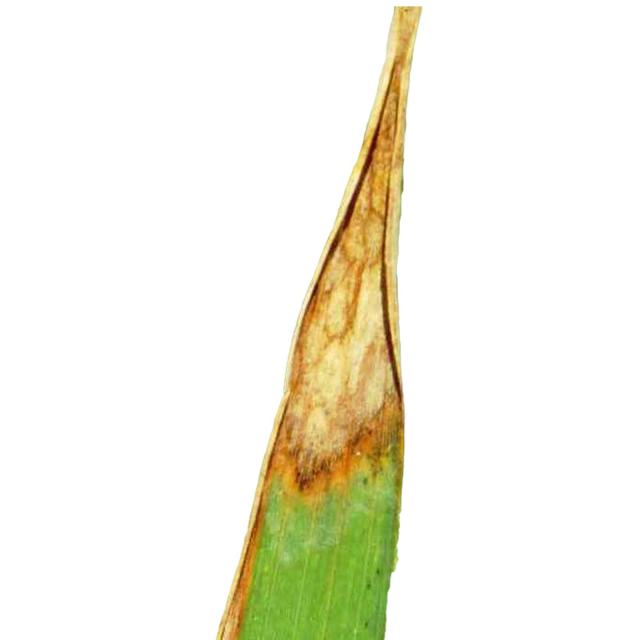Leaf scald: (185, 0, 522, 640)
